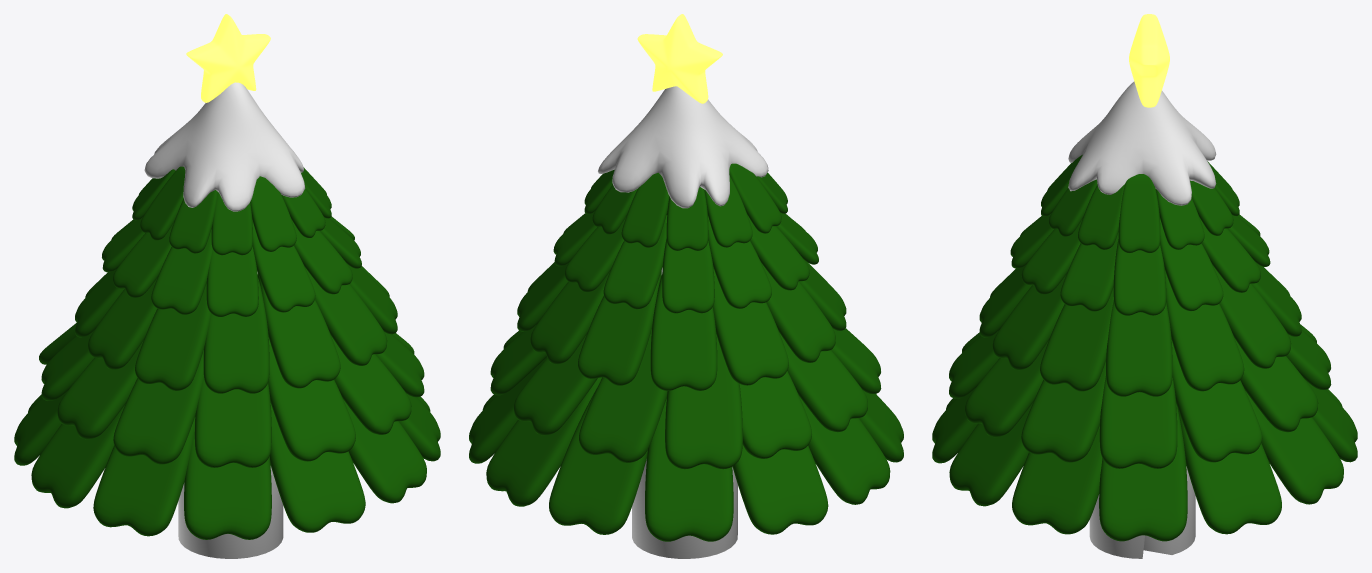
Rendered from Christmas Tree.fbx.
The picture shows the model from 3 angles, left to right: view 1: azimuth 30°, elevation 25°; view 2: azimuth 150°, elevation 25°; view 3: azimuth 270°, elevation 25°; orthographic projection.
Parts seen in each view (by area): view 1: 立方体.060, 立方体.007, 立方体.006, 立方体.008, 立方体.043, 立方体.042, 立方体.044, 立方体.031, 立方体.030, 立方体.032, 立方体.009, 立方体.005 (+27 smaller); view 2: 立方体.060, 立方体.011, 立方体.047, 立方体, 立方体.010, 立方体.036, 立方体.035, 立方体.001, 立方体.034, 立方体.024, 立方体.009, 立方体.046 (+26 smaller); view 3: 立方体.060, 立方体.003, 立方体.002, 立方体.004, 立方体.039, 立方体.038, 立方体.027, 立方体.040, 立方体.026, 立方体.001, 立方体.028, 立方体.005 (+26 smaller).
Part boxes in pixels (x1,y1,x2,y2): 立方体.060: [144, 82, 305, 211]; 立方体.007: [184, 433, 271, 539]; 立方体.006: [269, 403, 365, 532]; 立方体.008: [93, 417, 195, 536]; 立方体.043: [194, 378, 271, 467]; 立方体.042: [268, 337, 355, 461]; 立方体.044: [113, 350, 203, 464]; 立方体.031: [203, 278, 269, 393]; 立方体.030: [257, 274, 340, 388]; 立方体.032: [135, 283, 211, 390]; 立方体.009: [31, 404, 125, 508]; 立方体.005: [343, 399, 426, 503]; 立方体.060: [598, 86, 768, 208]; 立方体.011: [645, 399, 733, 541]; 立方体.047: [665, 334, 742, 469]; 立方体: [549, 388, 647, 534]; 立方体.010: [732, 445, 828, 534]; 立方体.036: [579, 329, 667, 462]; 立方体.035: [650, 274, 717, 390]; 立方体.001: [486, 377, 601, 506]; 立方体.034: [713, 267, 788, 385]; 立方体.024: [578, 271, 661, 385]; 立方体.009: [799, 396, 890, 504]; 立方体.046: [739, 371, 811, 458]; 立方体.060: [1068, 81, 1216, 205]; 立方体.003: [1099, 404, 1187, 541]; 立方体.002: [1177, 408, 1281, 534]; 立方体.004: [1012, 425, 1102, 534]; 立方体.039: [1099, 376, 1177, 468]; 立方体.038: [1171, 340, 1262, 462]; 立方体.027: [1106, 300, 1172, 396]; 立方体.040: [1021, 361, 1105, 462]; 立方体.026: [1165, 270, 1244, 391]; 立方体.001: [1245, 391, 1343, 504]; 立方体.028: [1040, 287, 1113, 391]; 立方体.005: [949, 402, 1033, 506].
Size of the model in its own units: 649 by 865 by 638.
